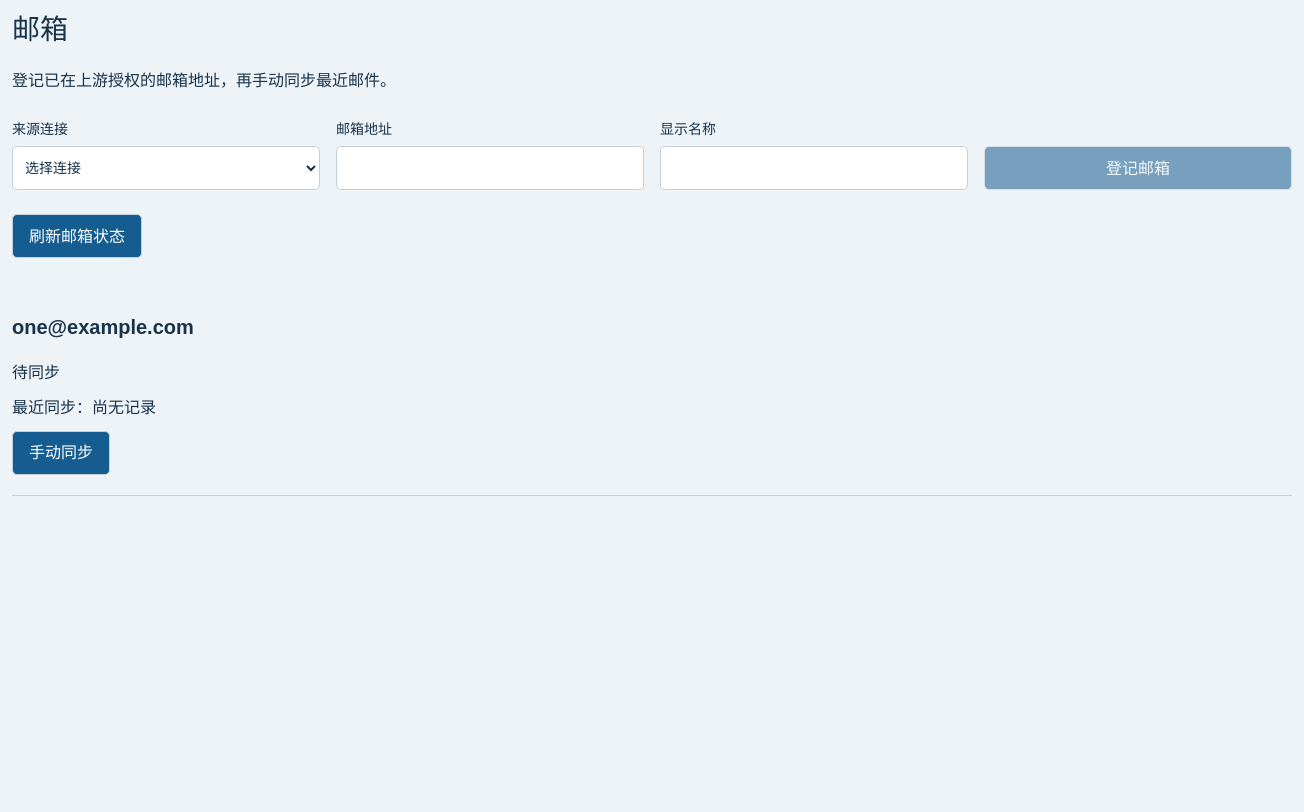
shows partial sync results without losing mailbox
The image size is (1304, 812).
Click the button with aria-label "同步 one@example.com": coordinates (61, 453) x1=12 y1=431 x2=110 y2=475
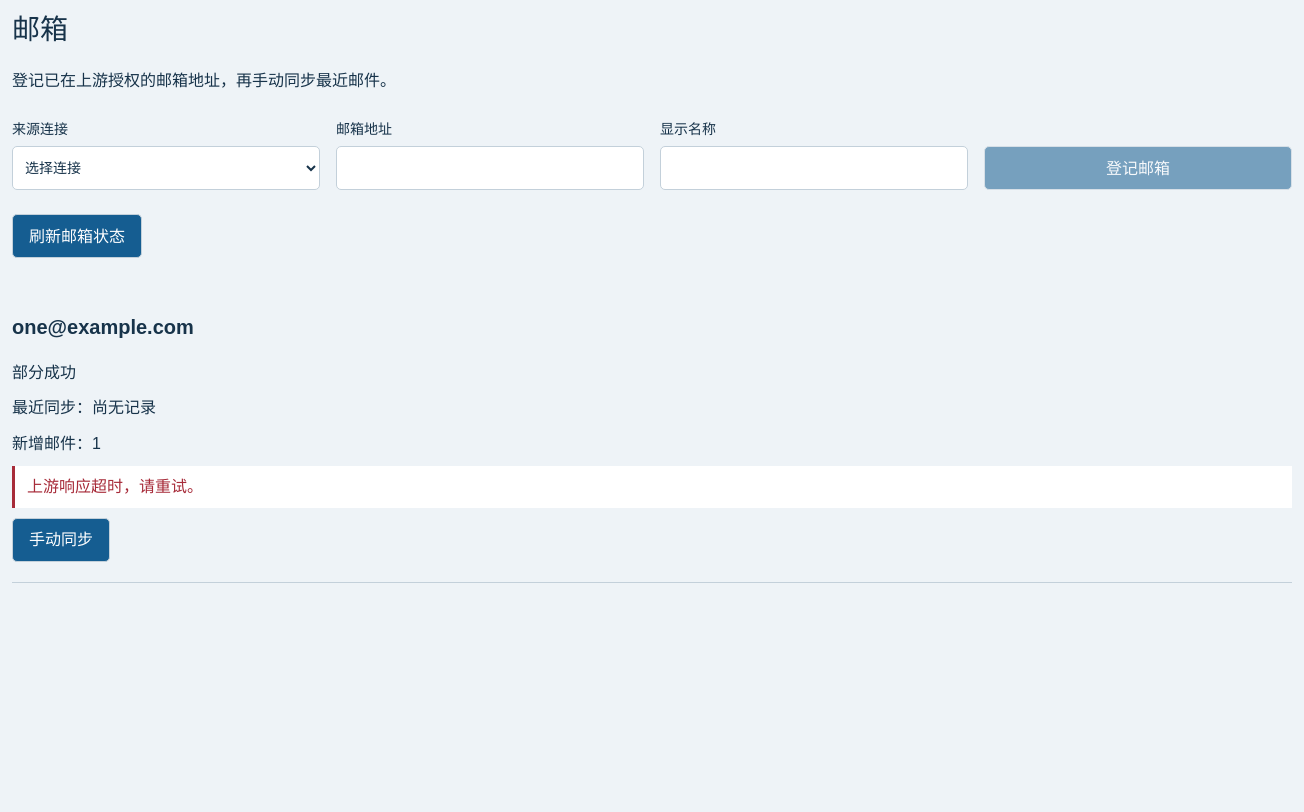
Expected: the heading "one@example.com" is shown, x1=12 y1=316 x2=194 y2=338
Now the text "部分成功" is shown, box x1=12 y1=364 x2=76 y2=381
Now the text "上游响应超时，请重试。" is shown, box x1=12 y1=466 x2=1292 y2=508
